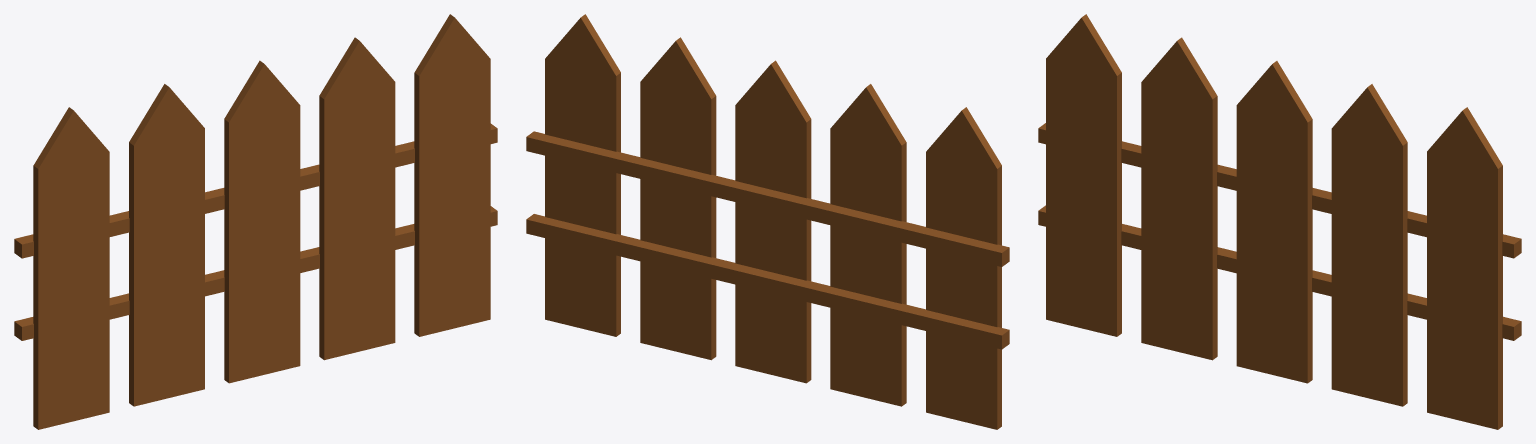
File: fence2.fbx
3 views of the same model, side by side, from view 1: azimuth 30°, elevation 25°; view 2: azimuth 150°, elevation 25°; view 3: azimuth 330°, elevation 25° (orthographic).
Visible parts, largest first — view 1: Fence; view 2: Fence; view 3: Fence.
Boxes of the visible parts, left/top/right/bottom form: Fence: left=14, top=14, right=497, bottom=429; Fence: left=526, top=14, right=1009, bottom=429; Fence: left=1038, top=14, right=1521, bottom=429.
Bounding box in the file's own units: 2 × 1.25 × 0.0883.
